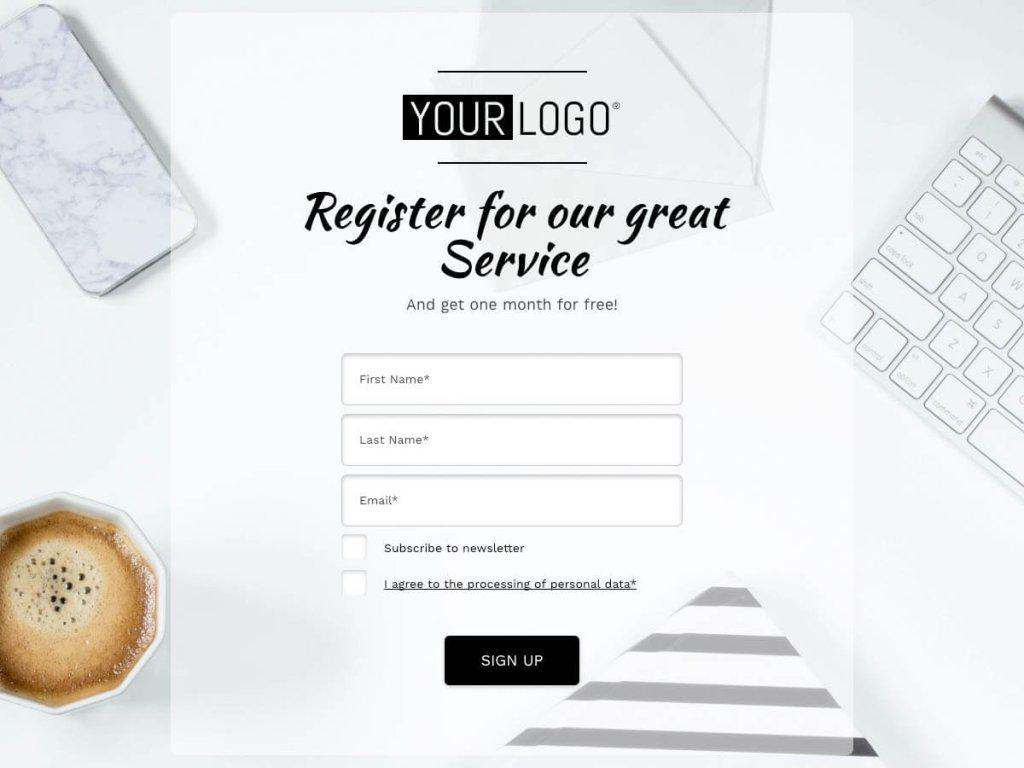button: (445, 636, 583, 686)
checkbox: (342, 536, 369, 559), (341, 571, 368, 594)
input: (343, 355, 682, 409), (342, 414, 683, 467), (342, 477, 686, 529)
label: (380, 576, 642, 596), (385, 540, 527, 557)
